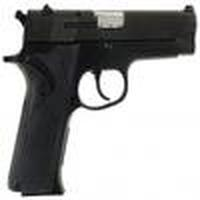gun: (1, 6, 197, 200)
